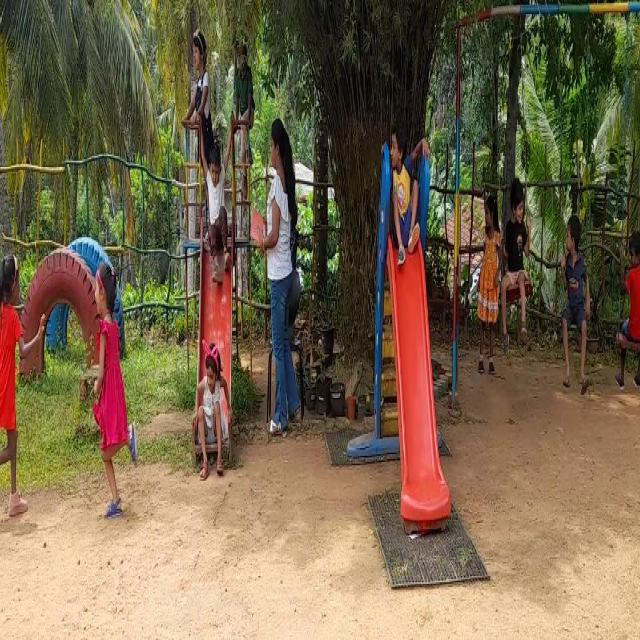adult: (258, 99, 304, 449)
child: (83, 254, 136, 498), (0, 250, 33, 515), (556, 205, 590, 396), (194, 342, 235, 488), (476, 187, 504, 376), (614, 217, 640, 400), (502, 169, 530, 332), (388, 128, 422, 256), (204, 134, 228, 284)
